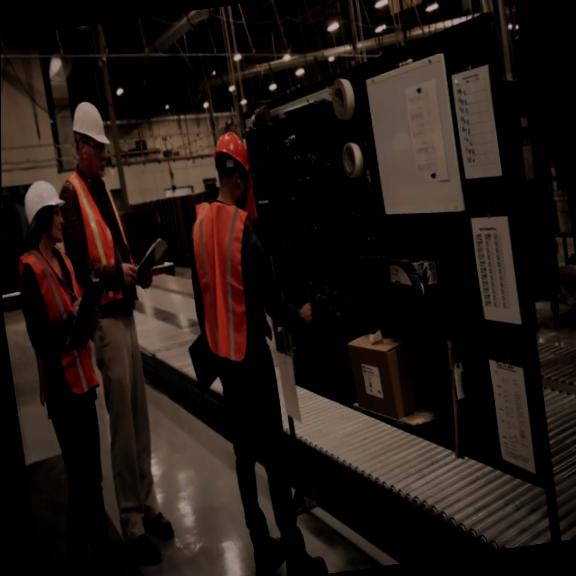safety_vest: (183, 194, 272, 366), (12, 242, 100, 399), (65, 164, 139, 305)
